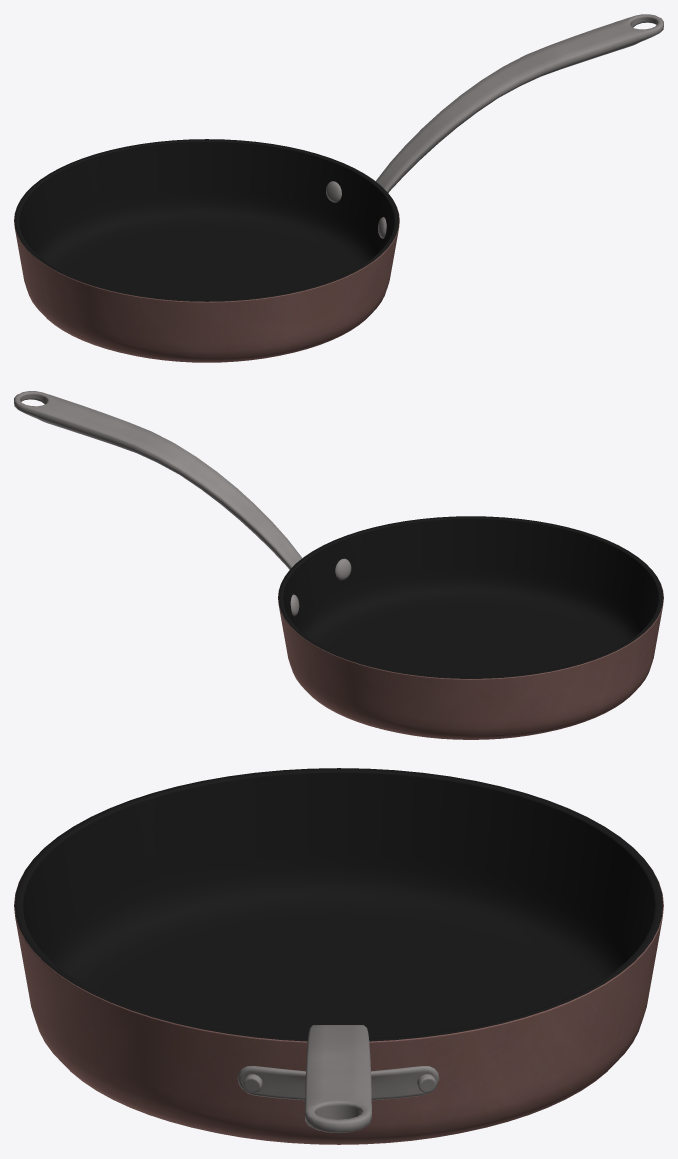
The model's file is padella18.glb.
3 views of the same model, one above another, from view 1: azimuth 30°, elevation 25°; view 2: azimuth 150°, elevation 25°; view 3: azimuth 270°, elevation 25° (orthographic). The views are drawn at different scales.
Visible parts, largest first — view 1: contemporary_cookware_frying_pan_YBK2_FQ; view 2: contemporary_cookware_frying_pan_YBK2_FQ; view 3: contemporary_cookware_frying_pan_YBK2_FQ.
Boxes of the visible parts, <box> form: contemporary_cookware_frying_pan_YBK2_FQ: <box>14,14,663,362</box>; contemporary_cookware_frying_pan_YBK2_FQ: <box>14,391,663,739</box>; contemporary_cookware_frying_pan_YBK2_FQ: <box>14,768,663,1144</box>.
Bounding box in the file's own units: 59.34 × 15.05 × 31.91.
2 materials, 2 textured.
